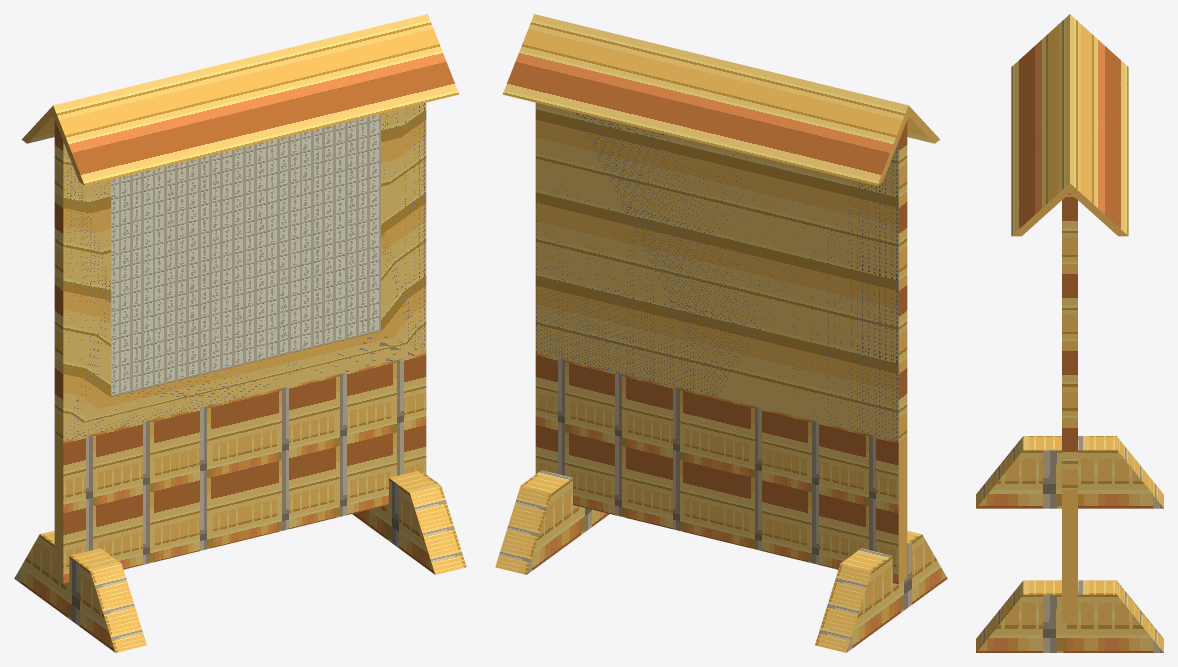
3 views of the same model, side by side, from view 1: azimuth 30°, elevation 25°; view 2: azimuth 150°, elevation 25°; view 3: azimuth 270°, elevation 25° (orthographic). The views are drawn at different scales.
Visible parts, largest first — view 1: 3803kg_sh1_26; view 2: 3803kg_sh1_26; view 3: 3803kg_sh1_26.
Boxes of the visible parts, x1,y1,x2,y2 form: 3803kg_sh1_26: [14, 14, 466, 652]; 3803kg_sh1_26: [495, 14, 947, 652]; 3803kg_sh1_26: [976, 14, 1163, 652].
Bounding box in the file's own units: 1.33 × 1.75 × 0.626.
Materials: 2 (2 with a texture image).
